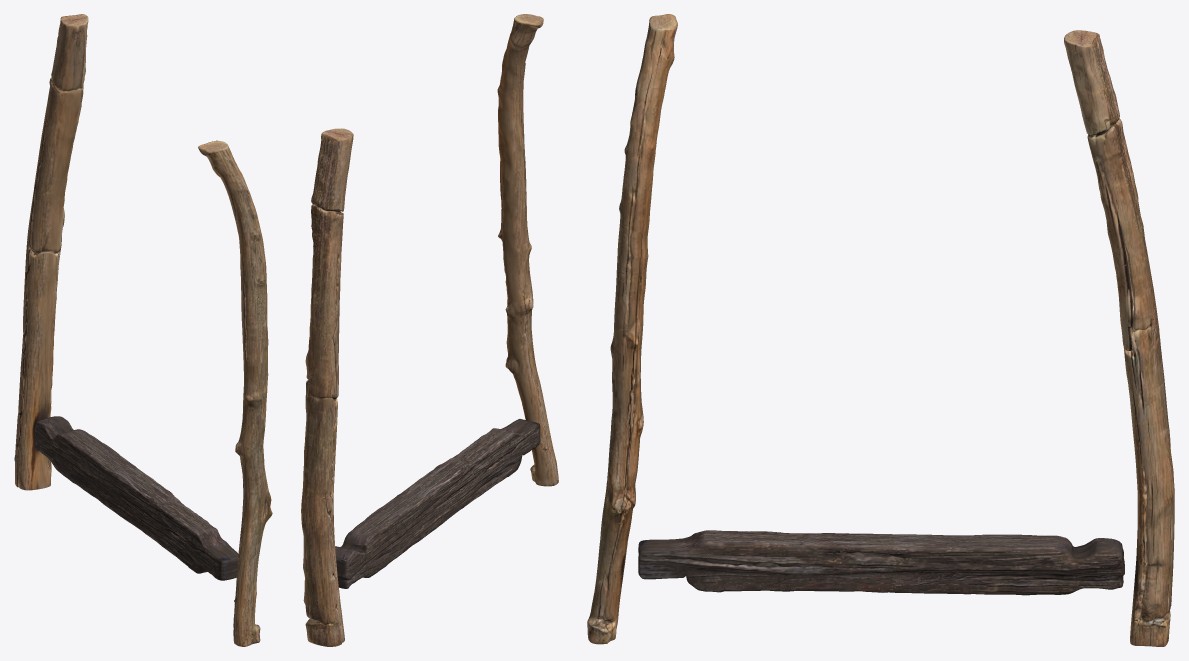
File: frame.glb
The picture shows the model from 3 angles, left to right: view 1: azimuth 30°, elevation 25°; view 2: azimuth 150°, elevation 25°; view 3: azimuth 270°, elevation 25°; orthographic projection. The views are drawn at different scales.
Visible parts, largest first — view 1: tripo_node_2a3c6621-be35-4709-b306-2cc6b8dc6c7a; view 2: tripo_node_2a3c6621-be35-4709-b306-2cc6b8dc6c7a; view 3: tripo_node_2a3c6621-be35-4709-b306-2cc6b8dc6c7a.
Part boxes in pixels (x1,y1,x2,y2): tripo_node_2a3c6621-be35-4709-b306-2cc6b8dc6c7a: (14,14,272,646); tripo_node_2a3c6621-be35-4709-b306-2cc6b8dc6c7a: (301,14,558,646); tripo_node_2a3c6621-be35-4709-b306-2cc6b8dc6c7a: (587,14,1174,646).
Size of the model in its own units: 0.1205 by 1 by 0.8716.
1 material, 1 textured.
